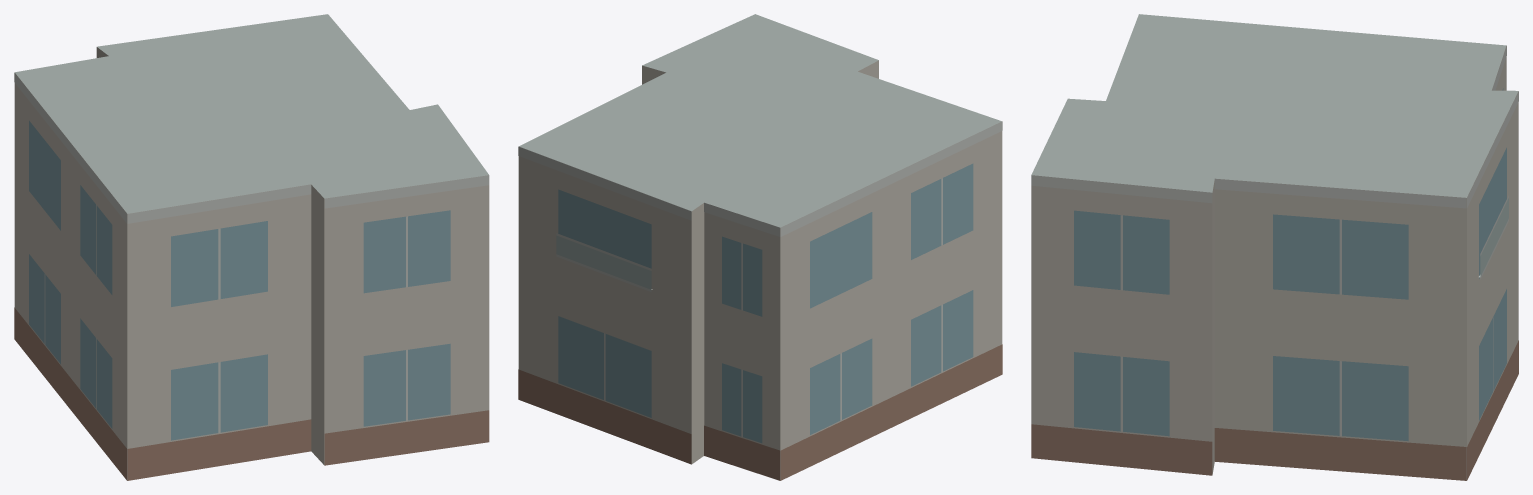
Rendered from survey-upis-32680741.glb.
3 views of the same model, side by side, from view 1: azimuth 30°, elevation 25°; view 2: azimuth 150°, elevation 25°; view 3: azimuth 270°, elevation 25° (orthographic). The views are drawn at different scales.
Visible parts, largest first — view 1: survey-upis-32680741.tmp; view 2: survey-upis-32680741.tmp; view 3: survey-upis-32680741.tmp.
Boxes of the visible parts, <box> form: survey-upis-32680741.tmp: <box>14,14,489,480</box>; survey-upis-32680741.tmp: <box>518,14,1002,480</box>; survey-upis-32680741.tmp: <box>1031,14,1518,480</box>.
Size of the model in its own units: 9.07 by 6.5 by 10.16.
